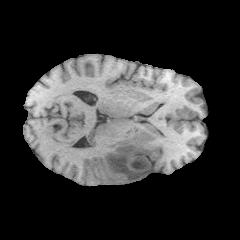glioma: (71, 135, 153, 183)
